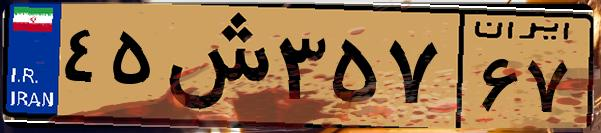3: (270, 28, 330, 110)
4: (57, 26, 110, 100)
5: (330, 28, 385, 110), (110, 28, 158, 98)
6: (475, 38, 525, 113)
7: (385, 28, 445, 110), (525, 38, 570, 115)
ش: (158, 12, 270, 120)
